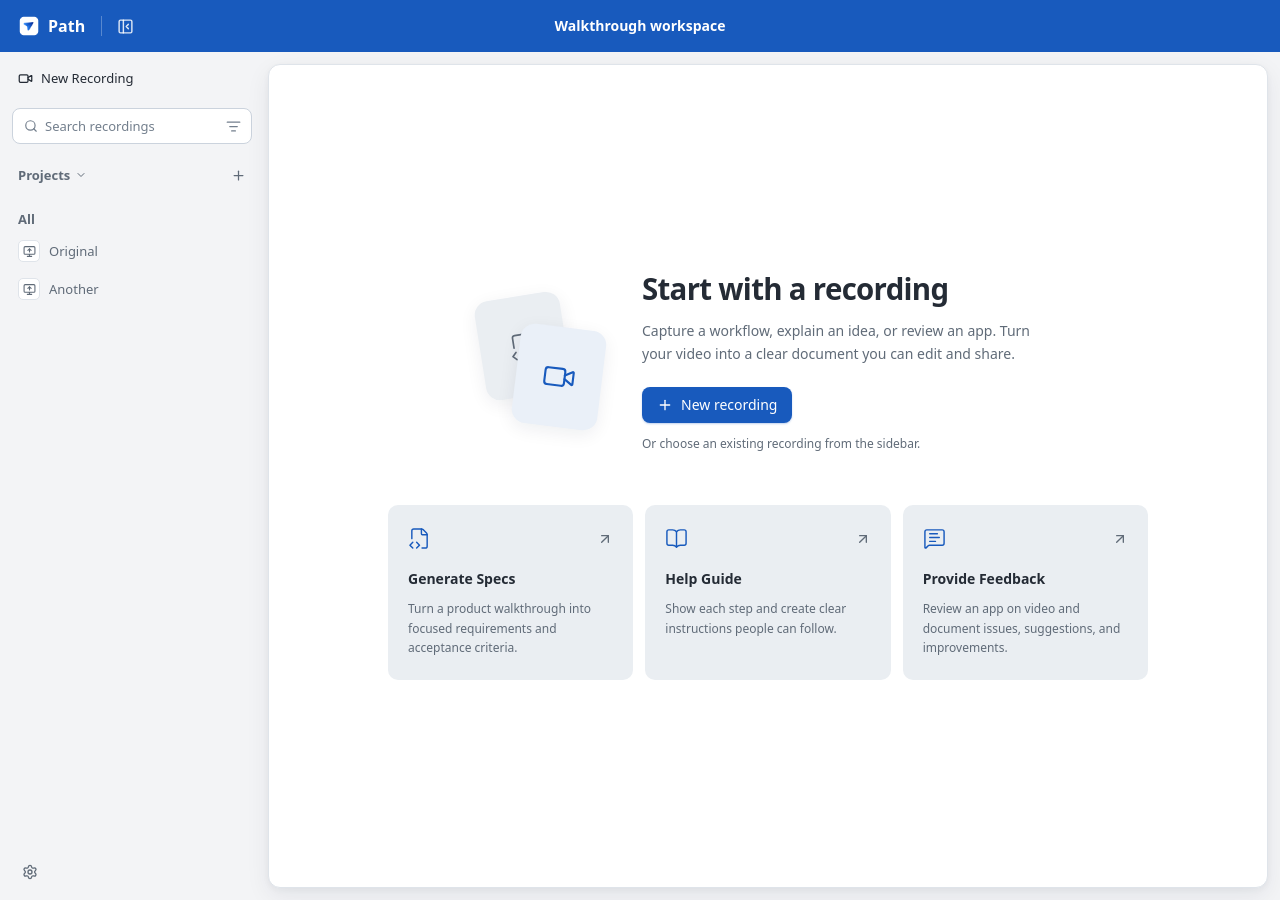
recording rename editing › locks header and shared sidebar rename while saving, then preserves the failed draft
Click the button "Original" at (132, 251), box x1=8 y1=233 x2=256 y2=269
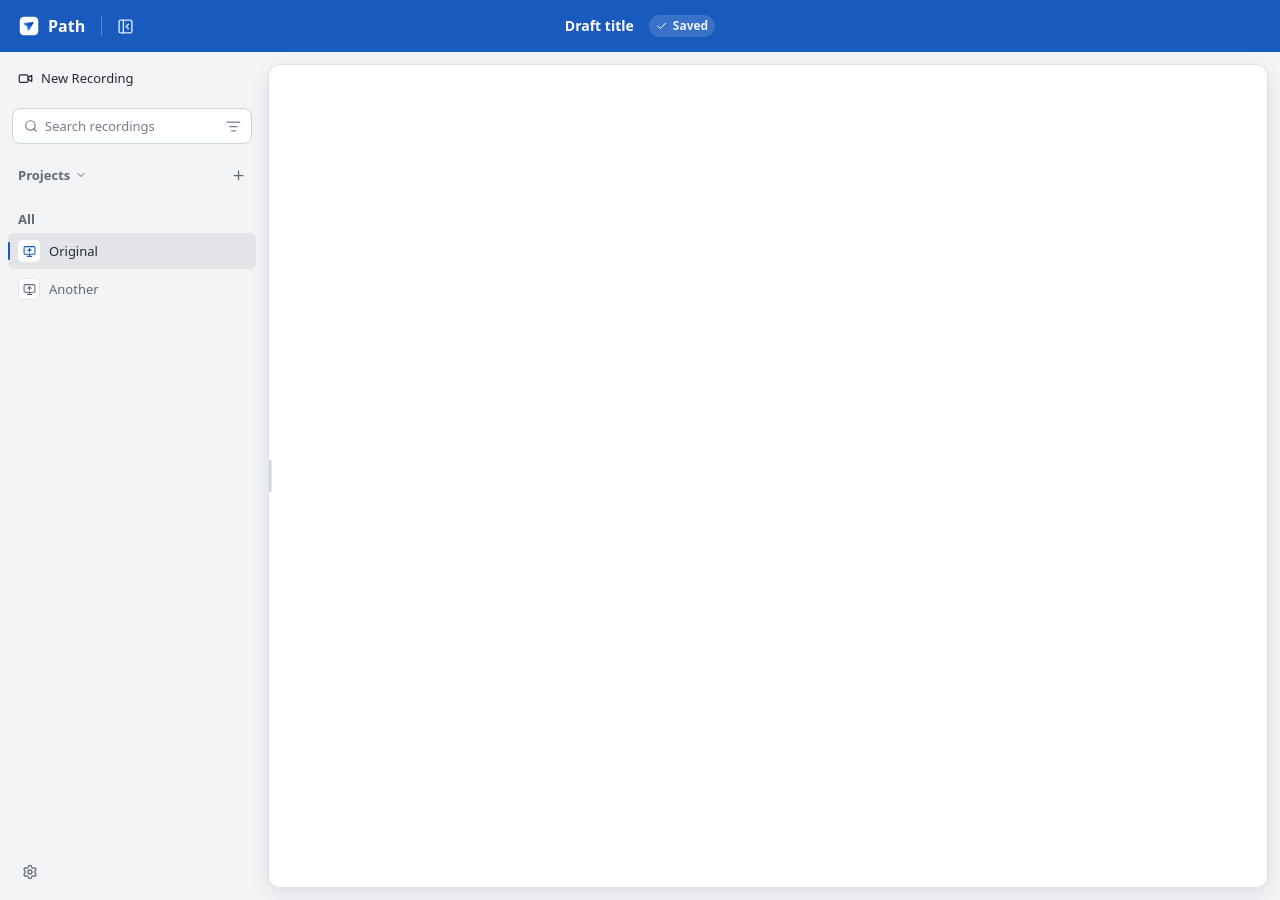
Leave the field named "Edit recording title", box x1=560 y1=13 x2=639 y2=39
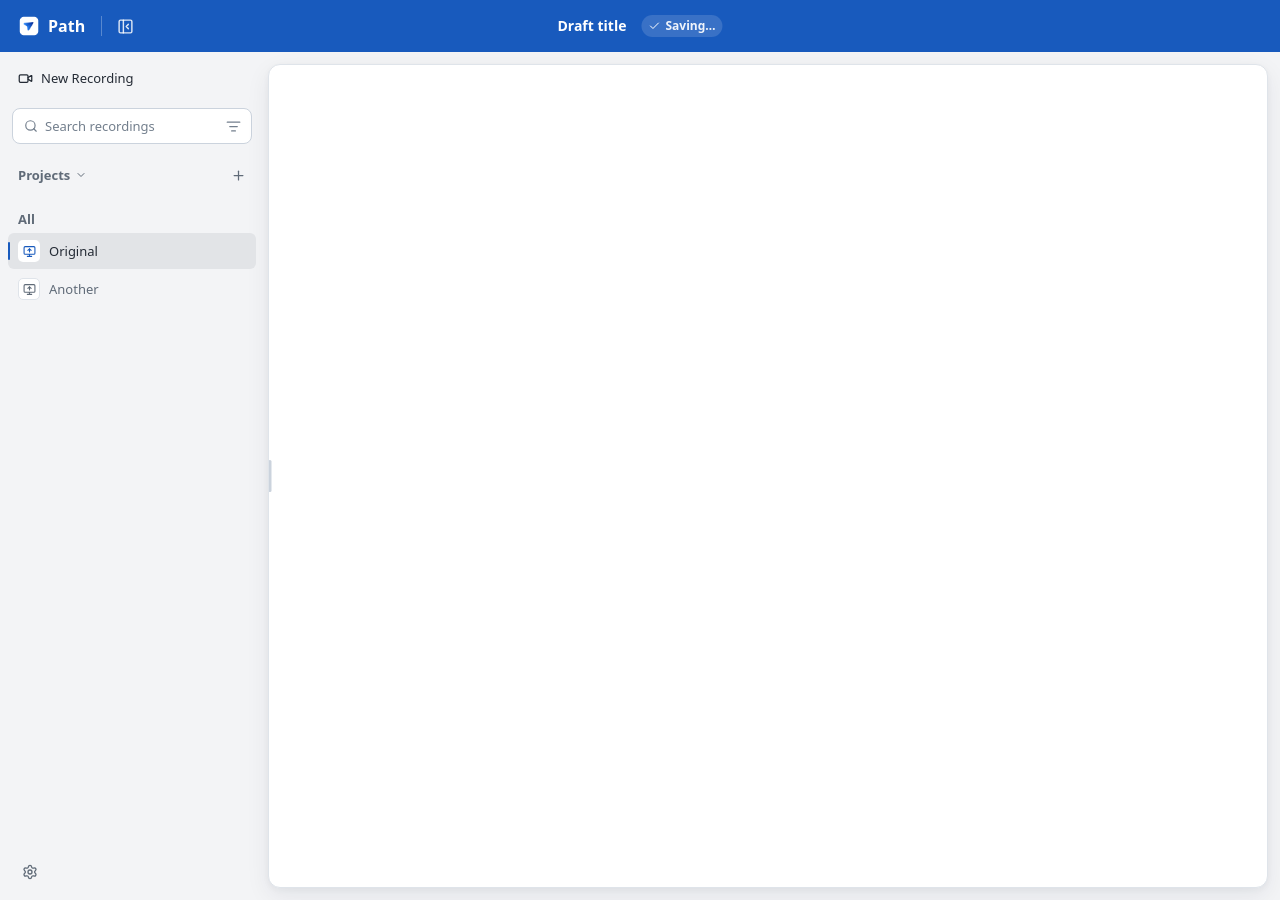
Check: the field named "Edit recording title" has attribute contenteditable="false", box x1=552 y1=13 x2=632 y2=39
Right-click the element showing "Original" at (132, 251), box x1=8 y1=233 x2=256 y2=269
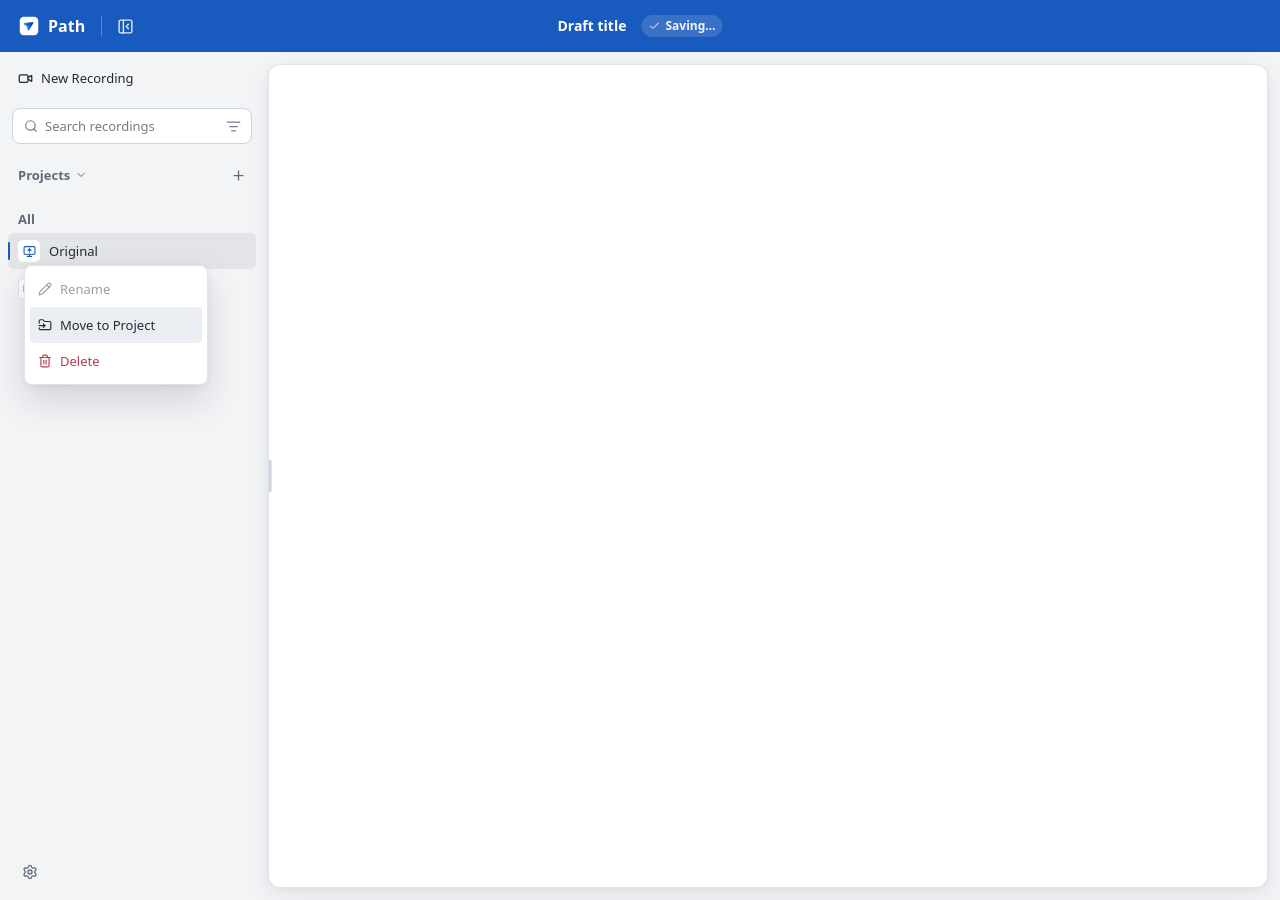
Check: the menu item "Rename" is disabled, box x1=30 y1=271 x2=202 y2=307
Leave the field named "Edit recording title", box x1=552 y1=13 x2=632 y2=39
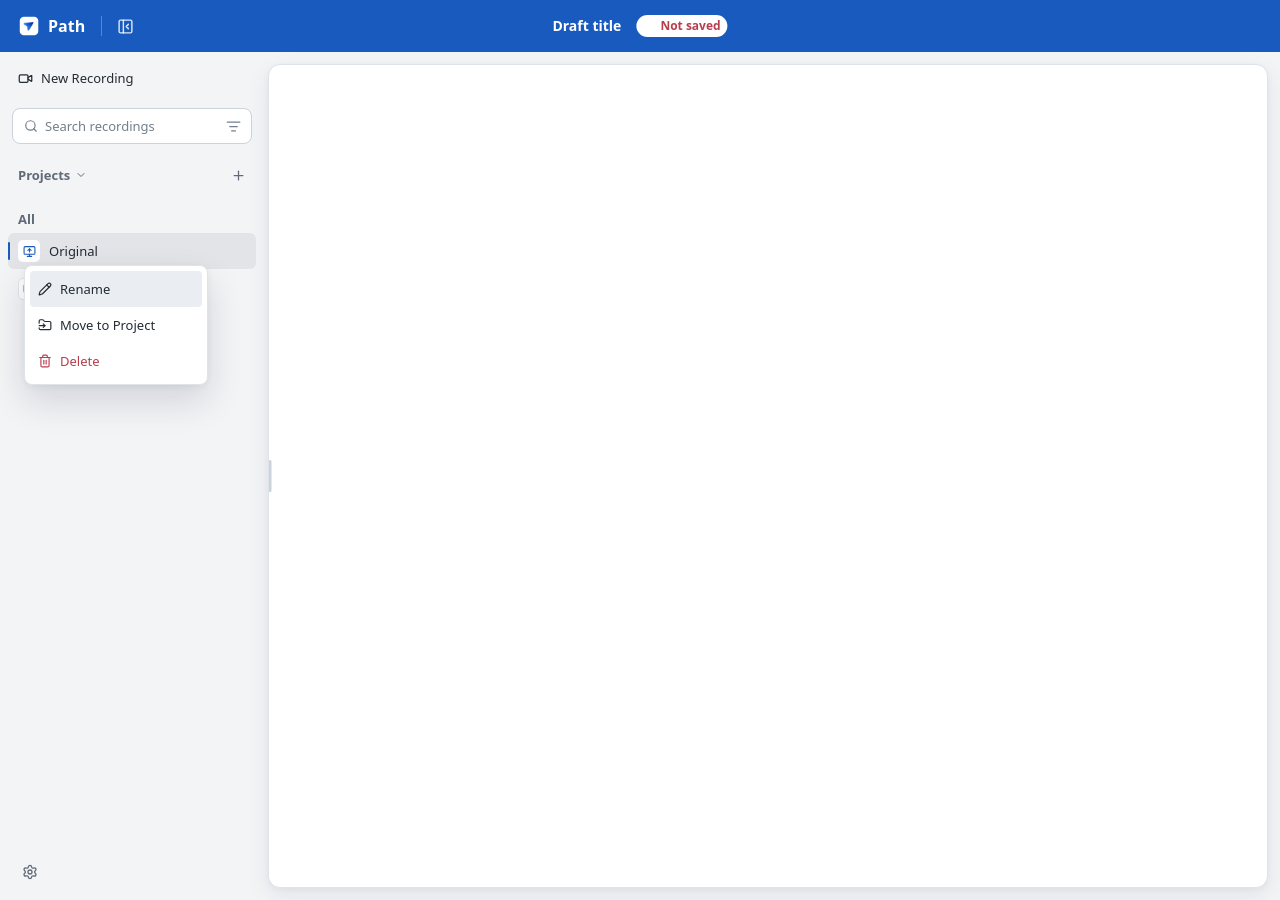
Check: the field named "Edit recording title" reads "Draft title", box x1=547 y1=13 x2=626 y2=39
Check: the menu item "Rename" is enabled, box x1=30 y1=271 x2=202 y2=307
Check: the text "Not saved" is shown, box x1=636 y1=15 x2=728 y2=37
